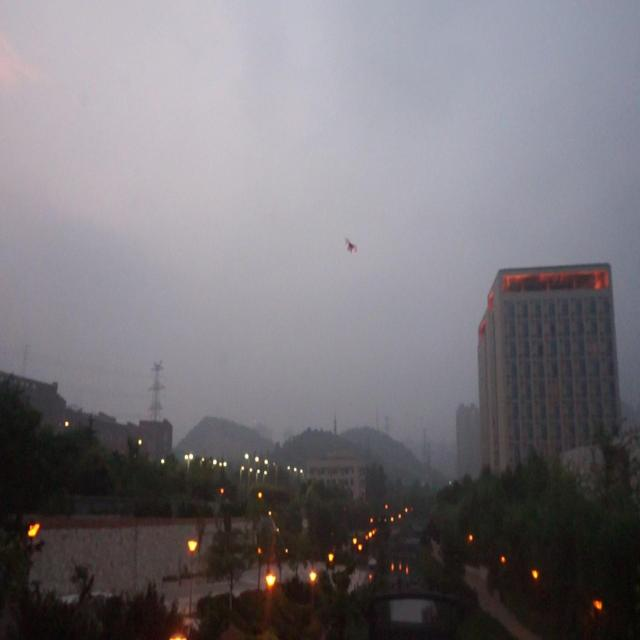drone: (342, 234, 358, 259)
